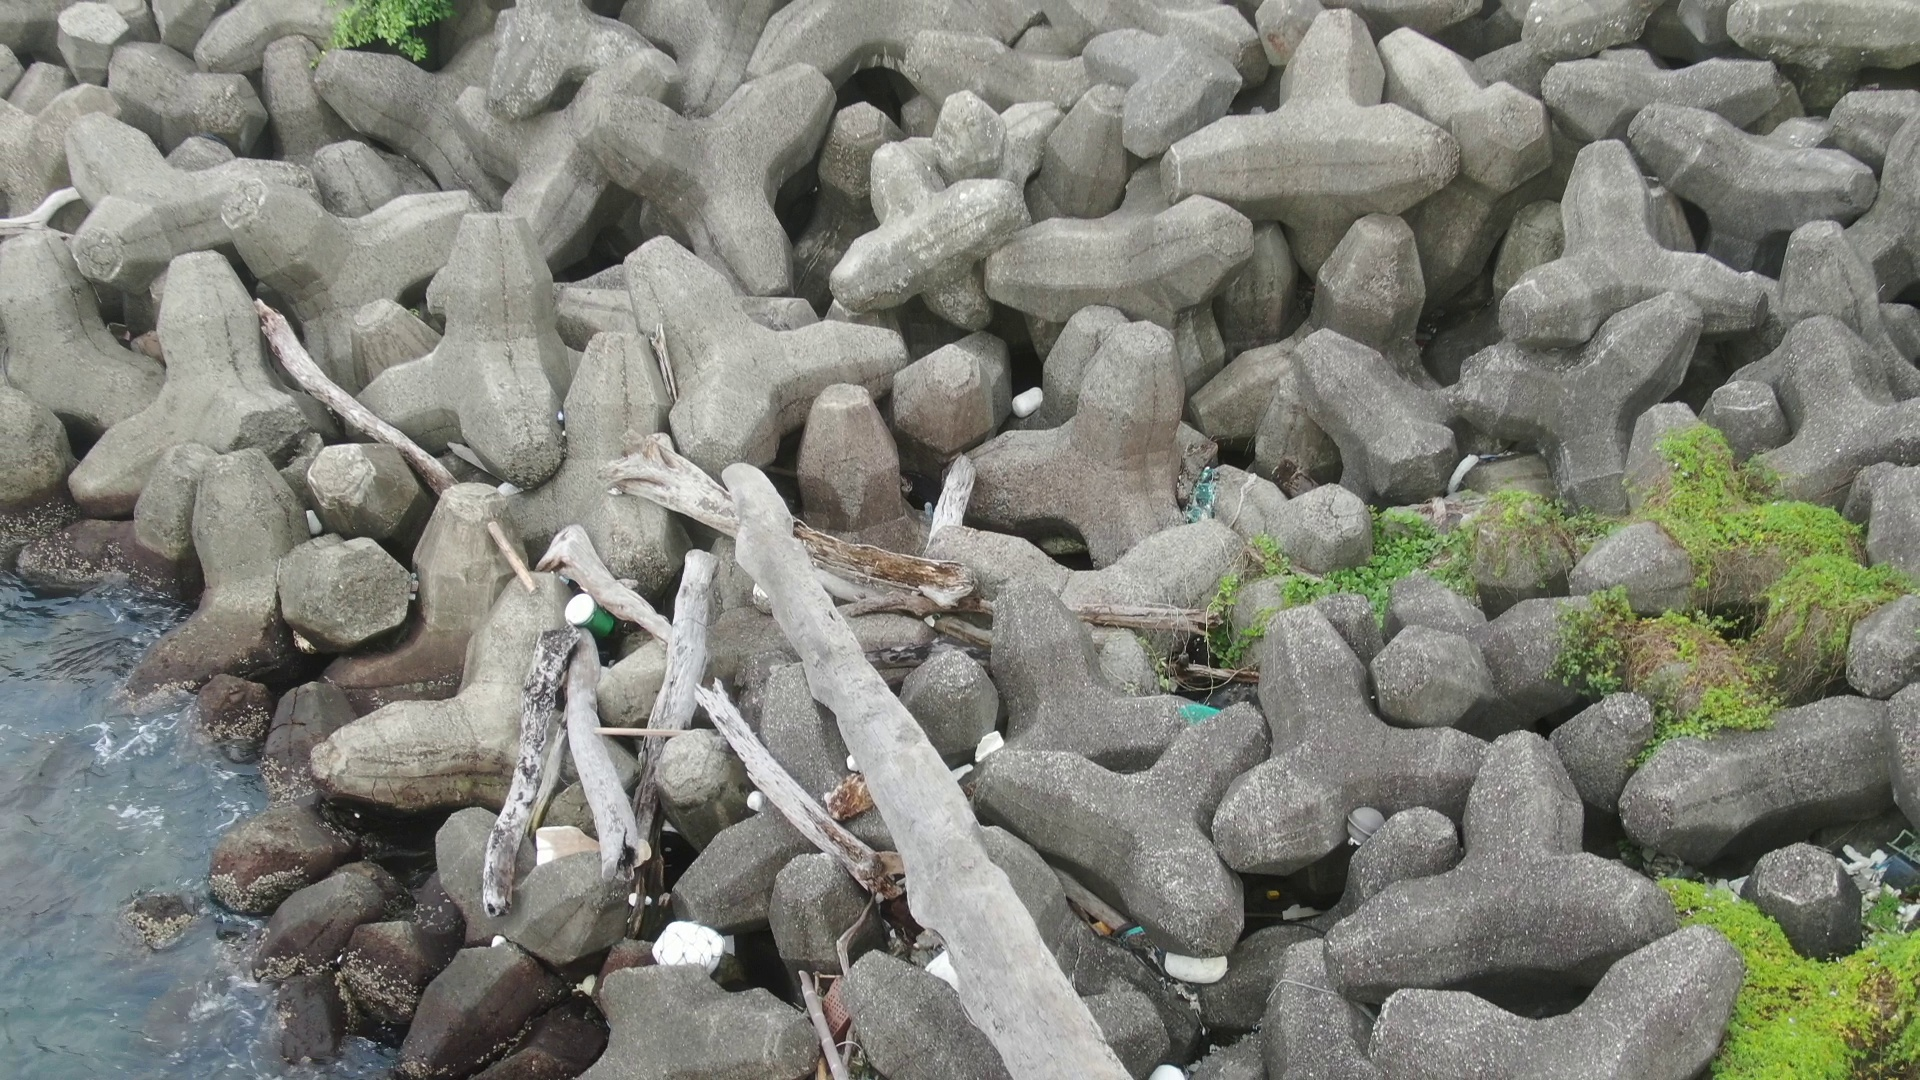garbage: (782, 953, 911, 1080), (1837, 824, 1920, 923), (647, 910, 735, 977), (1149, 944, 1245, 986), (1441, 444, 1524, 492), (1259, 880, 1320, 934), (562, 589, 626, 638), (1189, 462, 1228, 527), (1338, 802, 1387, 845), (1007, 385, 1050, 419), (1158, 1054, 1200, 1080)
